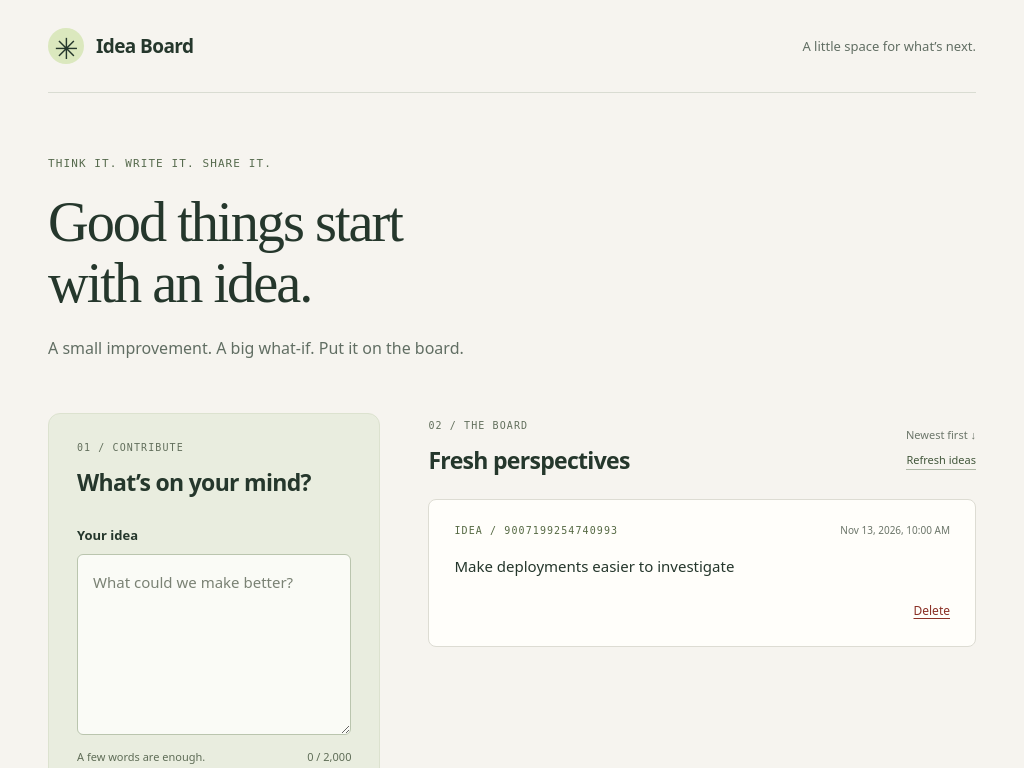
Scenario: Idea Board › removes a stale idea when another client already deleted it
This screenshot has width=1024, height=768.
Expected: the button "Refresh ideas" is enabled, [906,452,976,470]
What coordinates should you click on to do the following:
click the button "Delete"
I would click on:
 (932, 610)
Its box is [914,598,950,623].
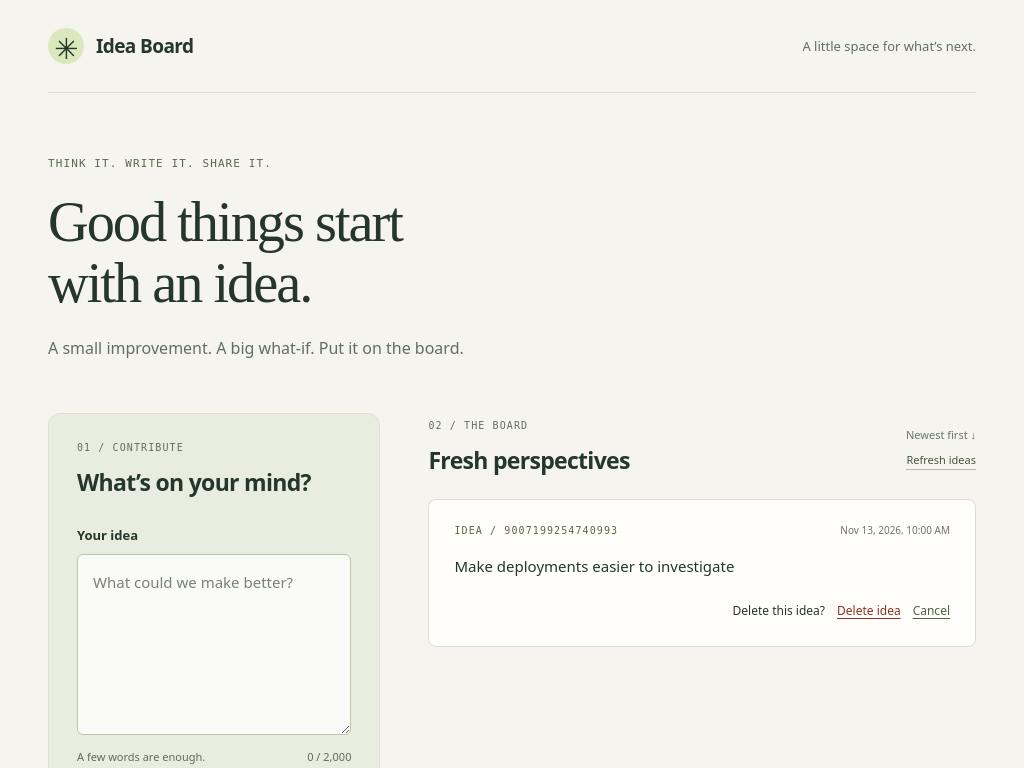
What coordinates should you click on to do the following:
click the button "Delete idea"
I would click on:
 (869, 610)
Its box is [837,598,901,623].
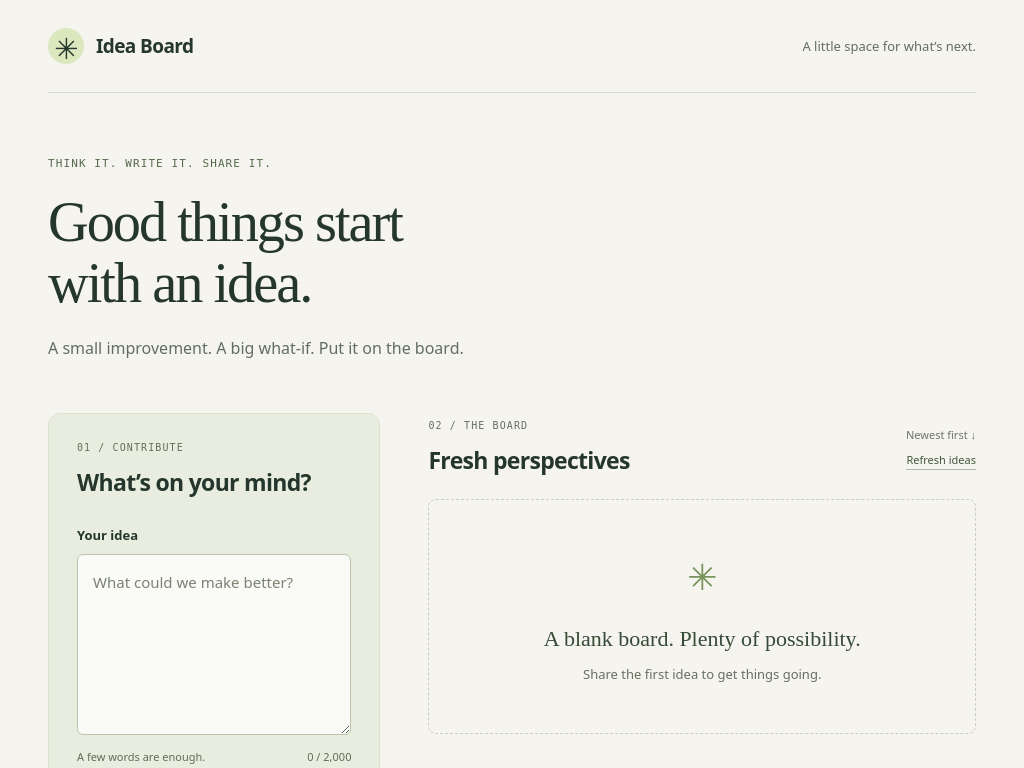
Now the text "Make deployments easier to investigate" is gone
